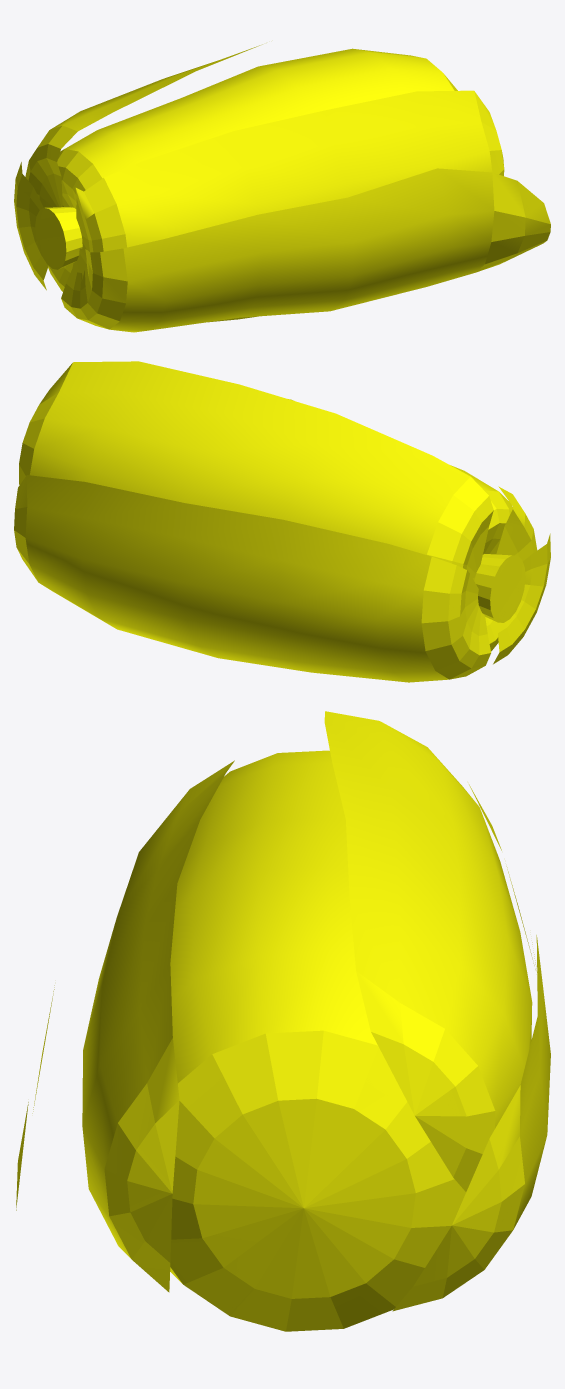
Rendered from Cabbage.glb.
3 views of the same model, one above another, from view 1: azimuth 30°, elevation 25°; view 2: azimuth 150°, elevation 25°; view 3: azimuth 270°, elevation 25° (orthographic). The views are drawn at different scales.
Parts seen in each view (by area): view 1: Cabbage; view 2: Cabbage; view 3: Cabbage.
Boxes of the visible parts, x1,y1,x2,y2 form: Cabbage: (14, 44, 550, 332); Cabbage: (14, 361, 550, 682); Cabbage: (16, 711, 550, 1331).
Size of the model in its own units: 0.01 by 0.00574 by 0.00633.
